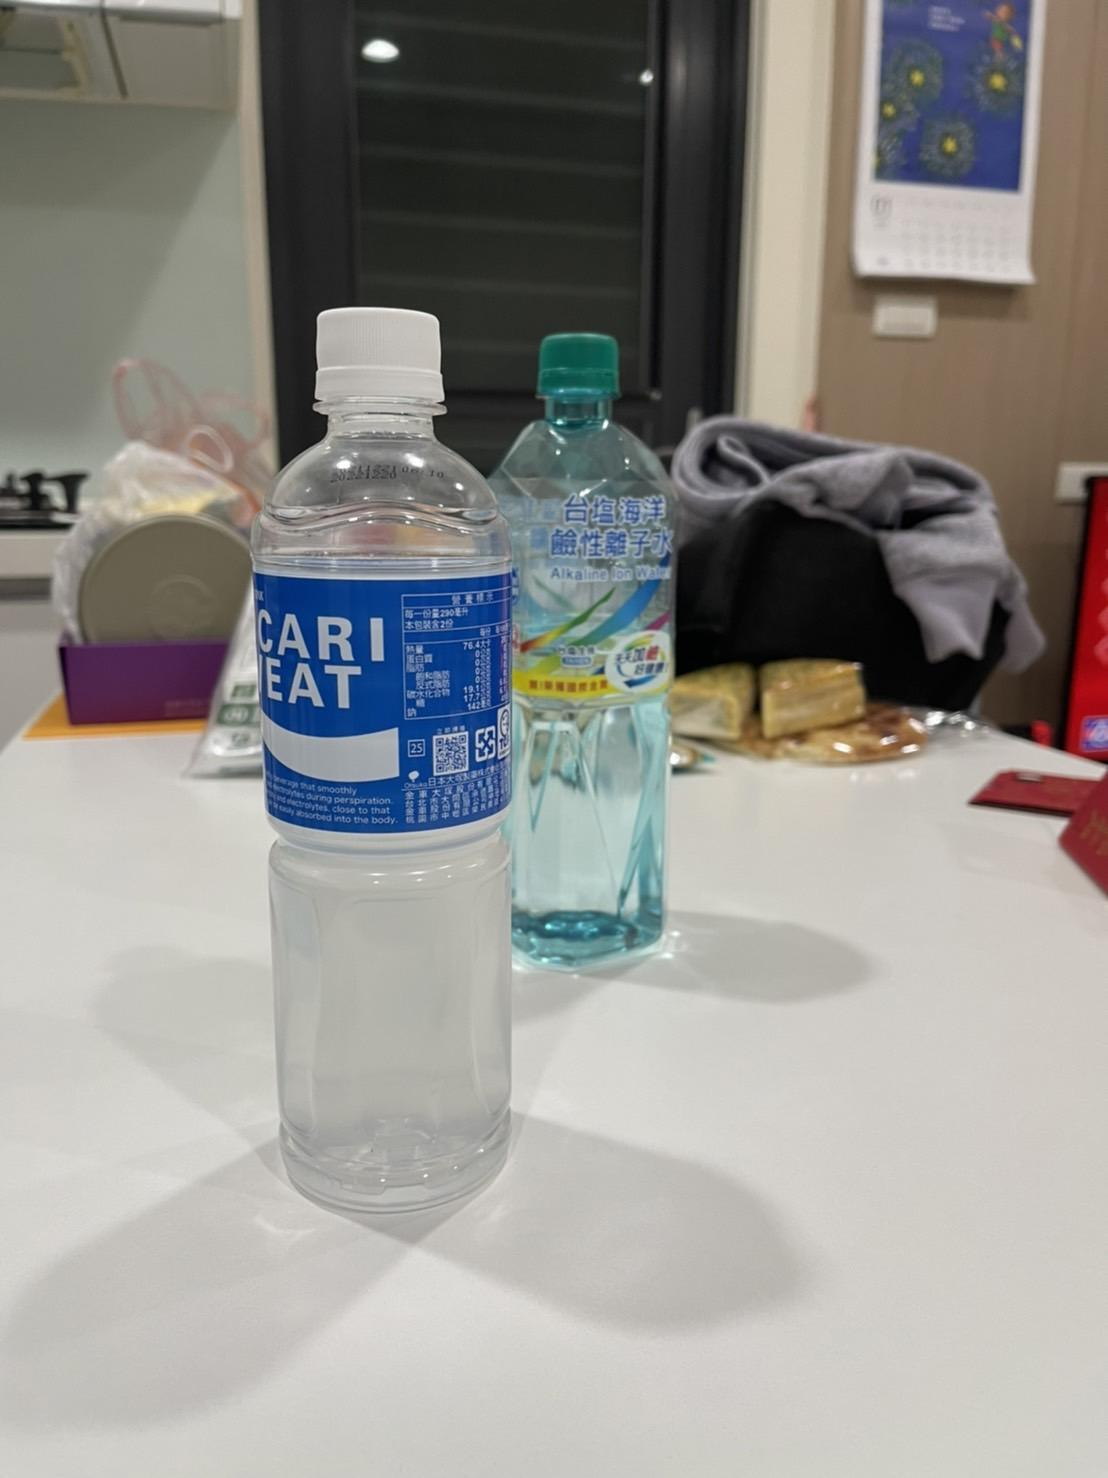bottle: (243, 289, 525, 1205), (499, 319, 682, 974)
